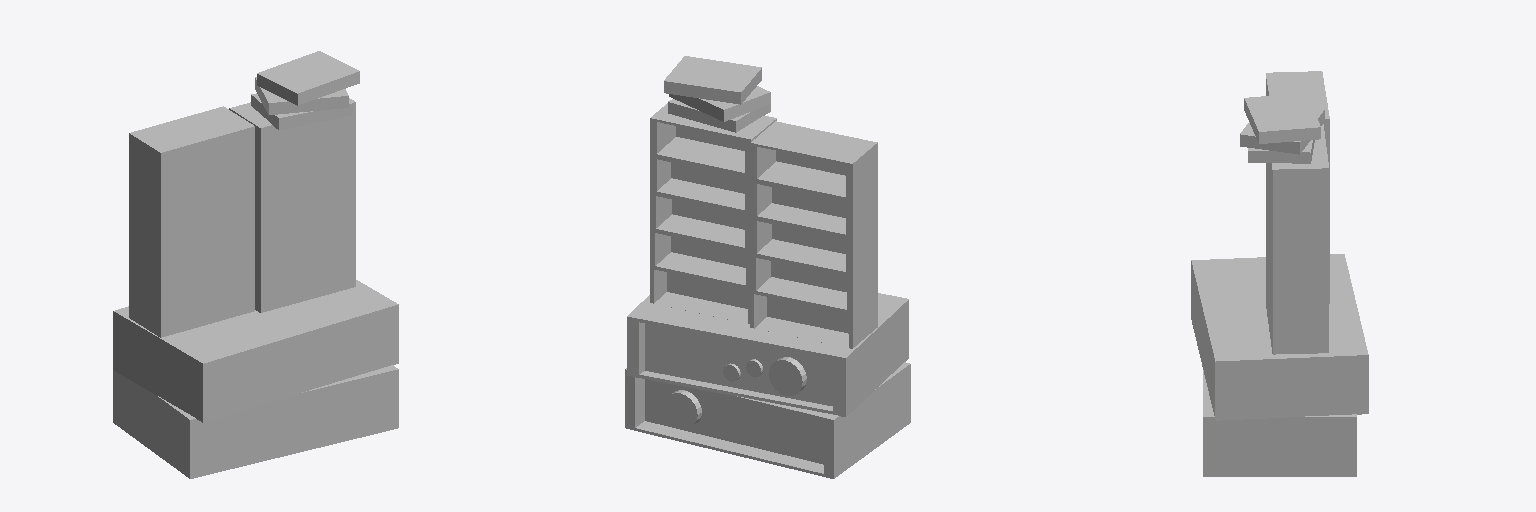
The model's file is CasetteShelf.obj.
The picture shows the model from 3 angles: view 1: azimuth 30°, elevation 25°; view 2: azimuth 150°, elevation 25°; view 3: azimuth 270°, elevation 25°; orthographic projection.
Visible parts, largest first — view 1: group5 pCube64, group5 pCube63, group5 pCube51, pCube62 group5, group5 pCube68, group5 pCube54, group5 pCube53; view 2: group5 pCube64, group5 pCube51, group5 pCube63, pCube62 group5, group5 pCube68, group5 pCube54, group5 pCube53, group5 pCylinder4, group5 pCylinder3; view 3: group5 pCube63, group5 pCube51, pCube62 group5, group5 pCube68, group5 pCube64, group5 pCube54, group5 pCube53.
Part boxes in pixels (x1,y1,x2,y2): group5 pCube64: (129, 106, 254, 337); group5 pCube63: (113, 280, 398, 422); group5 pCube51: (229, 98, 355, 312); pCube62 group5: (113, 365, 398, 478); group5 pCube68: (257, 51, 359, 105); group5 pCube54: (255, 77, 348, 114); group5 pCube53: (251, 93, 352, 129); group5 pCube64: (750, 121, 877, 348); group5 pCube51: (650, 103, 776, 323); group5 pCube63: (627, 293, 908, 416); pCube62 group5: (625, 362, 910, 478); group5 pCube68: (664, 56, 761, 104); group5 pCube54: (669, 86, 770, 121); group5 pCube53: (668, 99, 770, 132); group5 pCylinder4: (769, 357, 806, 395); group5 pCylinder3: (664, 390, 701, 428); group5 pCube63: (1191, 254, 1368, 420); group5 pCube51: (1266, 124, 1328, 354); pCube62 group5: (1203, 370, 1356, 476); group5 pCube68: (1244, 93, 1320, 143); group5 pCube64: (1266, 71, 1329, 303); group5 pCube54: (1240, 108, 1324, 154); group5 pCube53: (1248, 140, 1314, 163).
Size of the model in its own units: 47.14 by 69.22 by 32.8.